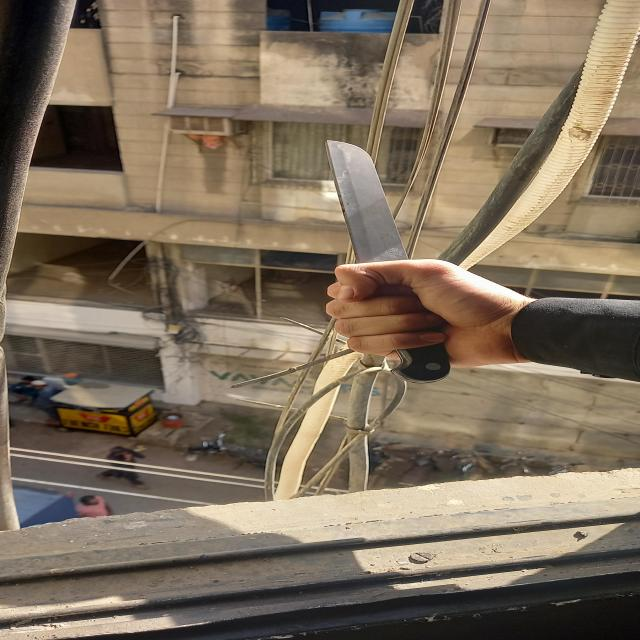Knife: (330, 140, 456, 383)
Person: (333, 260, 640, 382)
